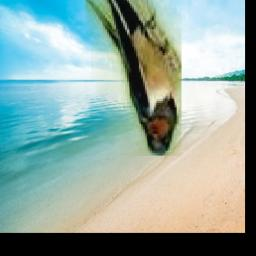Swallow: (86, 0, 183, 156)
